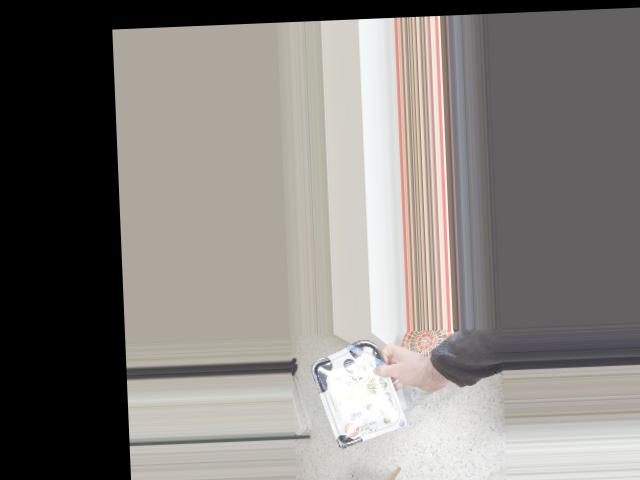cheese: (320, 344, 390, 437)
